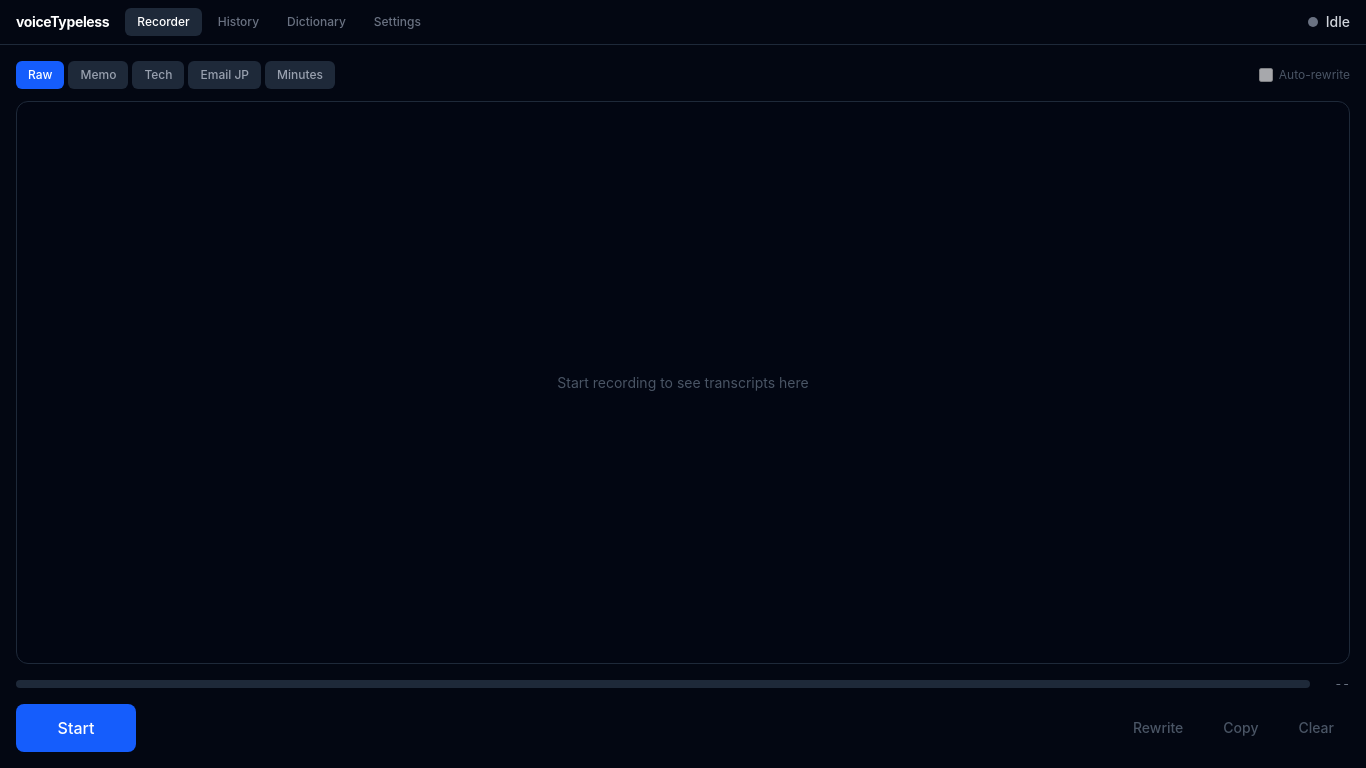
Test: App › navigates to DictionaryPage
This screenshot has width=1366, height=768.
Click the button "Dictionary".
click(316, 22)  # box [275,8,358,36]
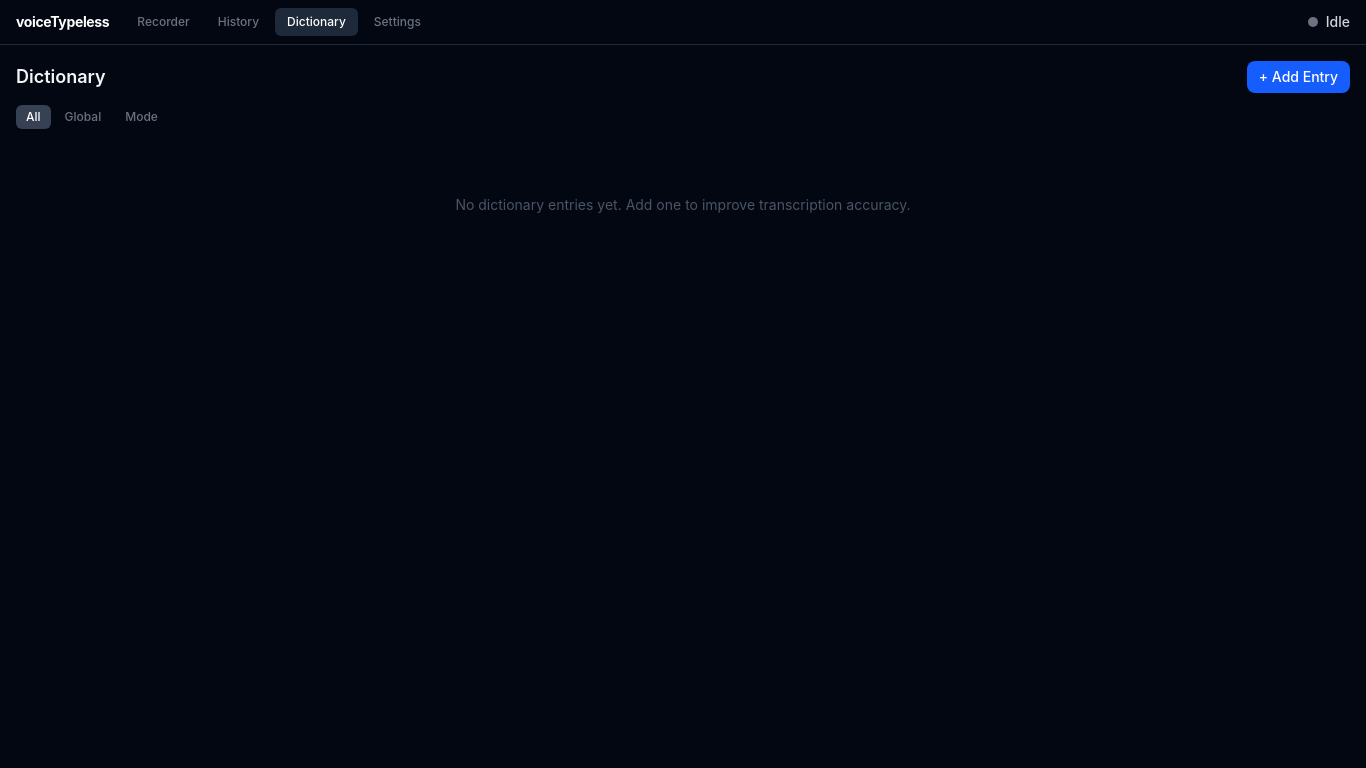
Result: the button "+ Add Entry" is shown at [1247,61,1350,93]
